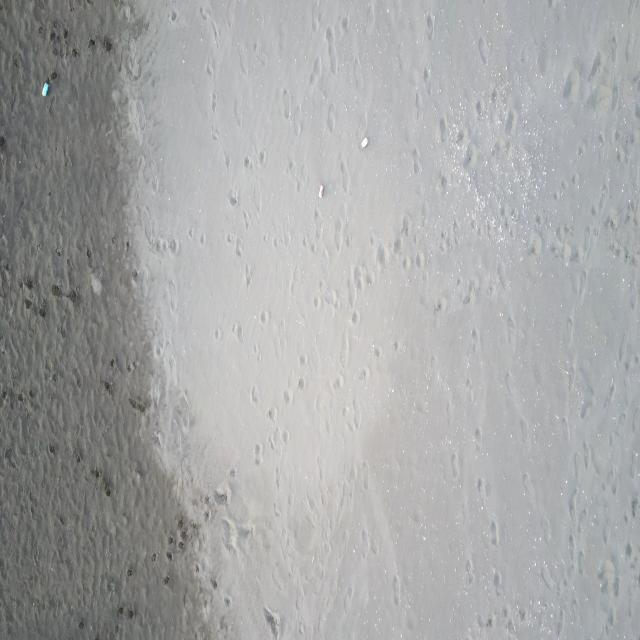tin-and-aluminum-cans: (41, 80, 49, 98), (361, 135, 369, 151), (318, 182, 324, 200)
